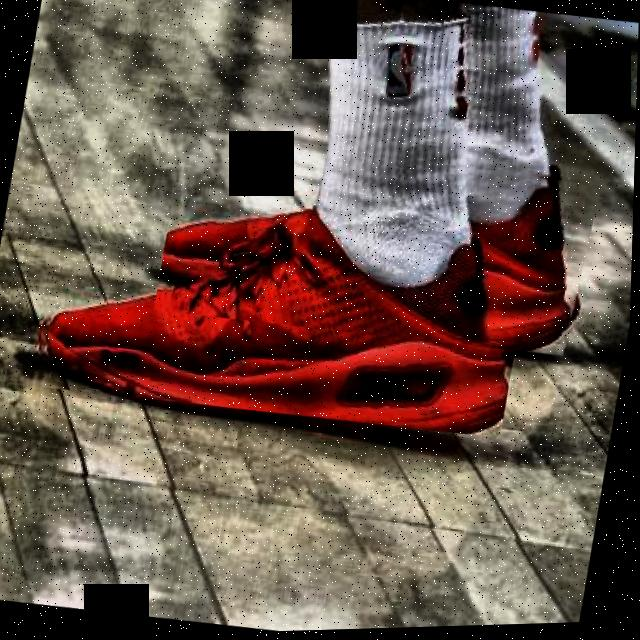shoe: (27, 160, 539, 453), (155, 119, 605, 370)
